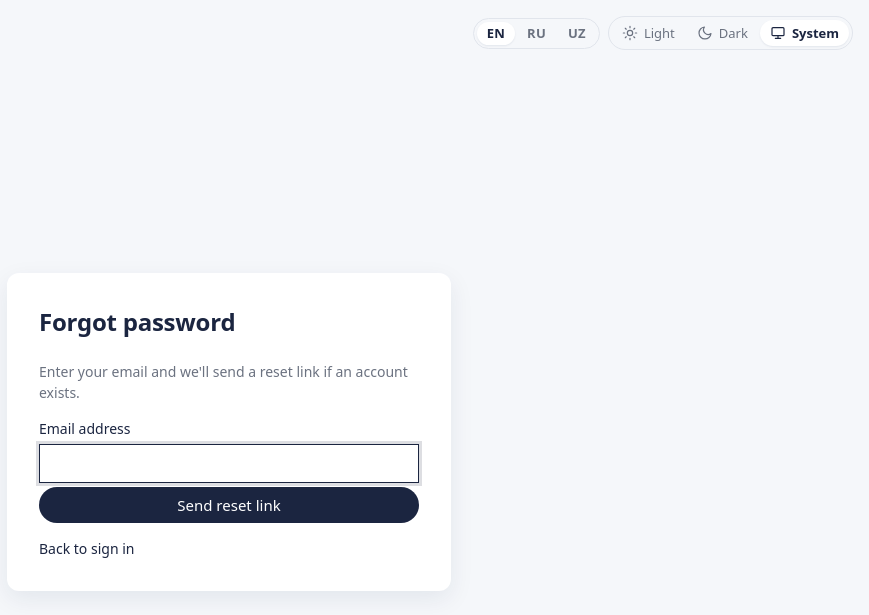
Test case: ForgotPasswordPage › shows the neutral confirmation on success and never echoes the email
Type "person@example.com" into the field labelled "Email address" at (229, 463), box [39,444,419,483]
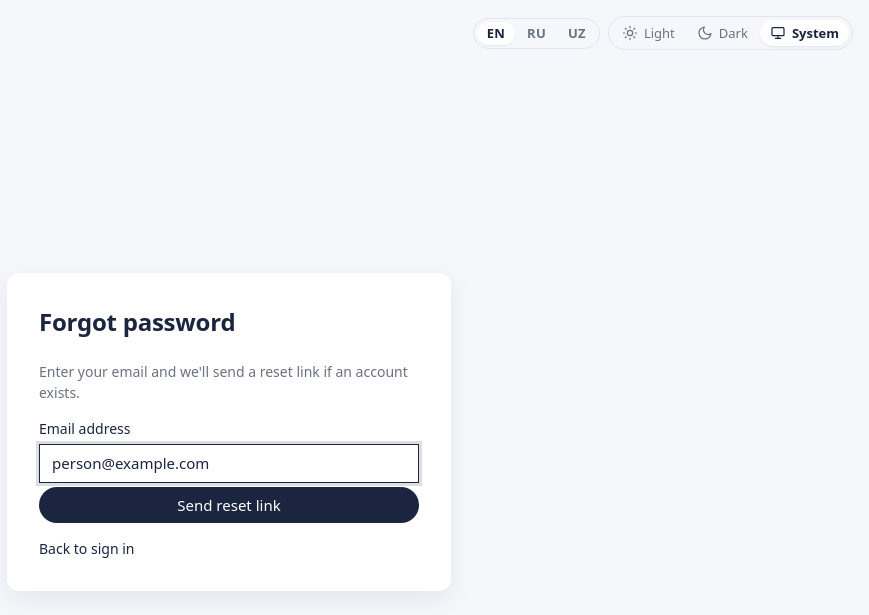
Click the button "Send reset link" at (229, 505), box [39,487,419,523]
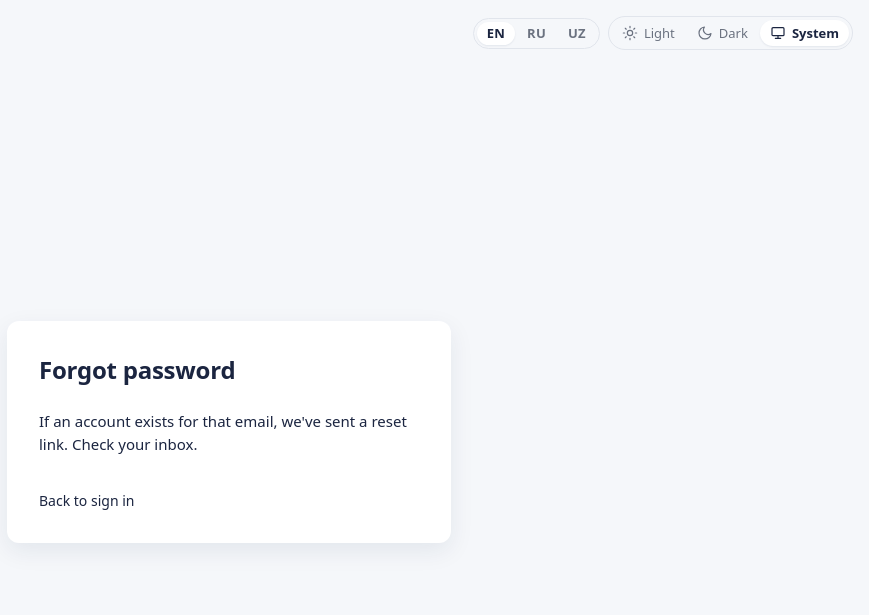
Expected: the text "person@example.com" is not shown
Now the text "we've sent a reset link" is shown, box [39,411,407,454]
Now the label labelled "Email address" is gone
